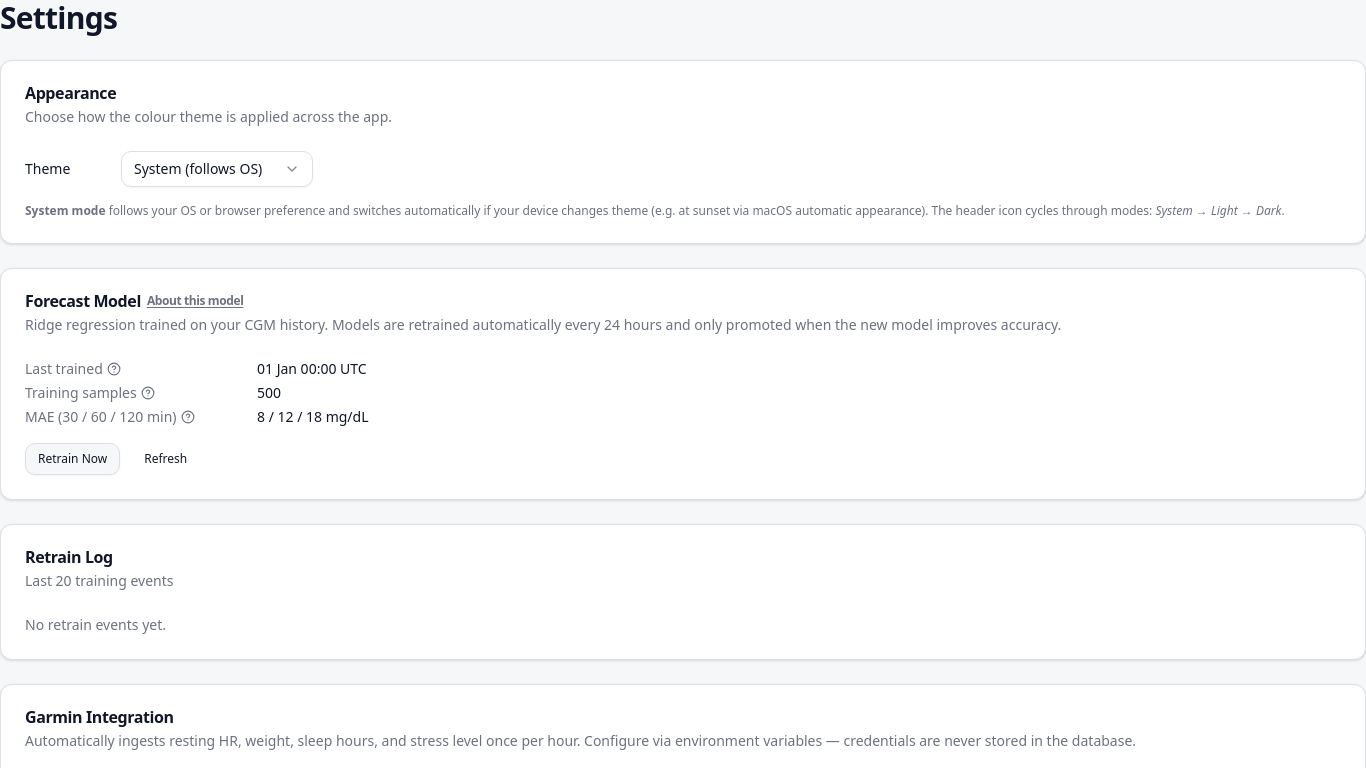
it: Settings — help elements (#85) › opens "About this model" sheet with promotion logic
Click the button "About this model" at (195, 301), box [147,293,243,309]
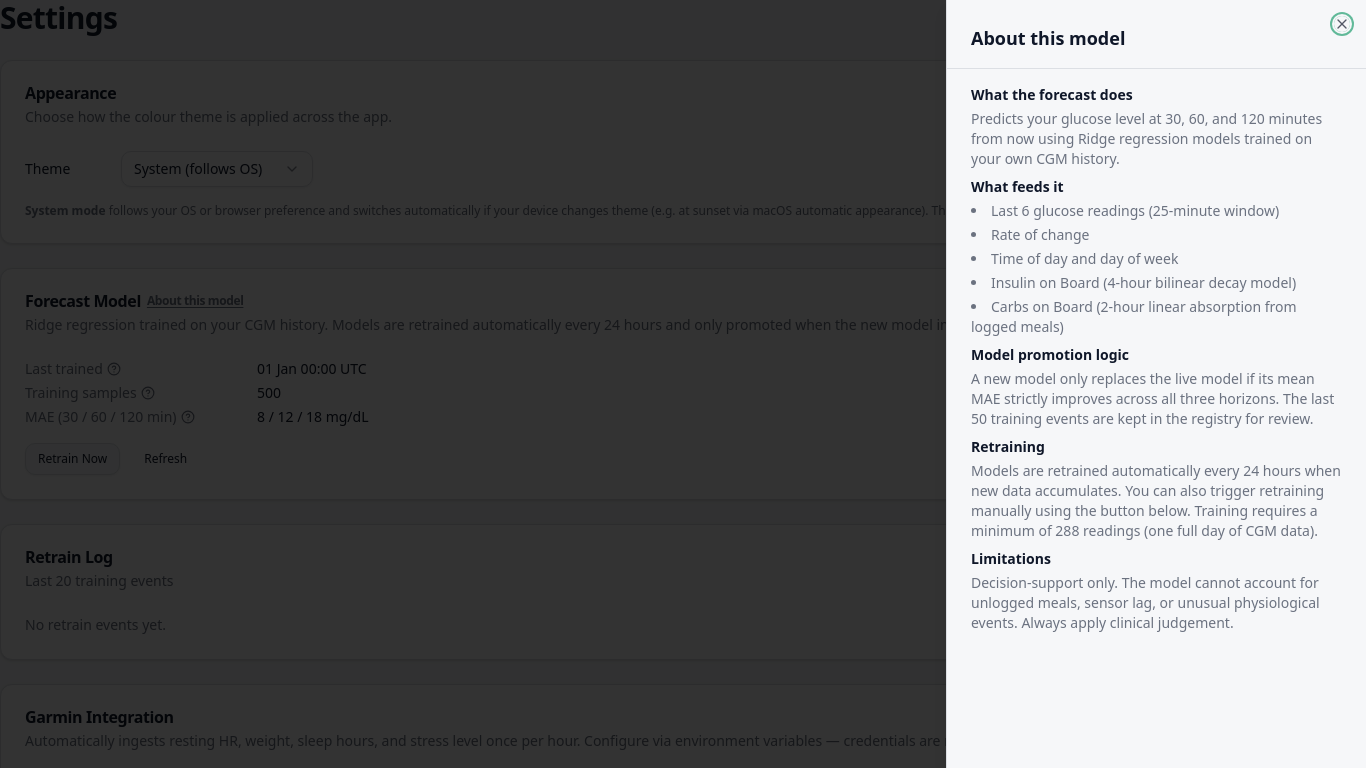
Result: the heading "About this model" is shown at [971,26,1125,50]
Result: the heading "Model promotion logic" is shown at [971,345,1129,364]
